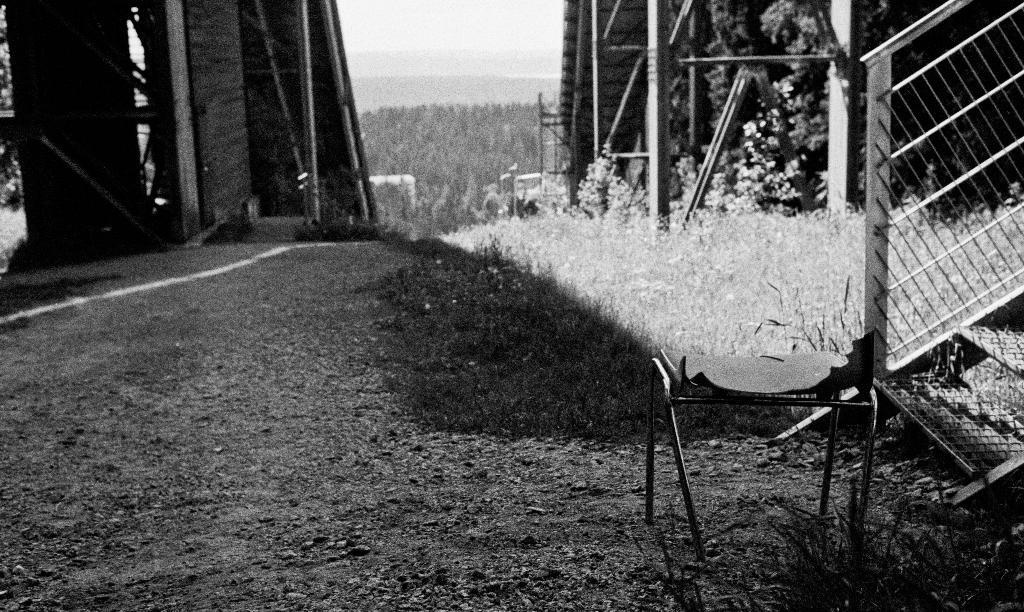Chair: (639, 318, 889, 548)
